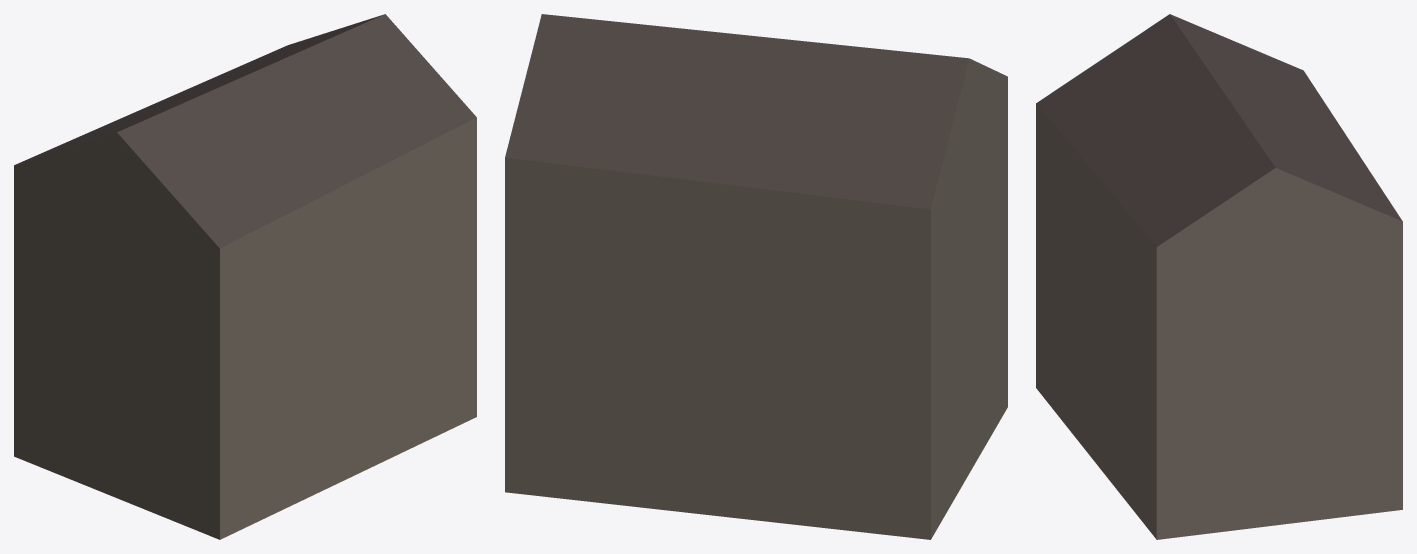
The picture shows the model from 3 angles, left to right: view 1: azimuth 30°, elevation 25°; view 2: azimuth 150°, elevation 25°; view 3: azimuth 270°, elevation 25°; orthographic projection. The views are drawn at different scales.
Visible parts, largest first — view 1: HP-w1198843247; view 2: HP-w1198843247; view 3: HP-w1198843247.
Part boxes in pixels (left/top/right/bottom): HP-w1198843247: left=14, top=14, right=476, bottom=539; HP-w1198843247: left=505, top=14, right=1007, bottom=539; HP-w1198843247: left=1036, top=14, right=1402, bottom=539.
Bounding box in the file's own units: 8.36 × 7.54 × 7.01.
